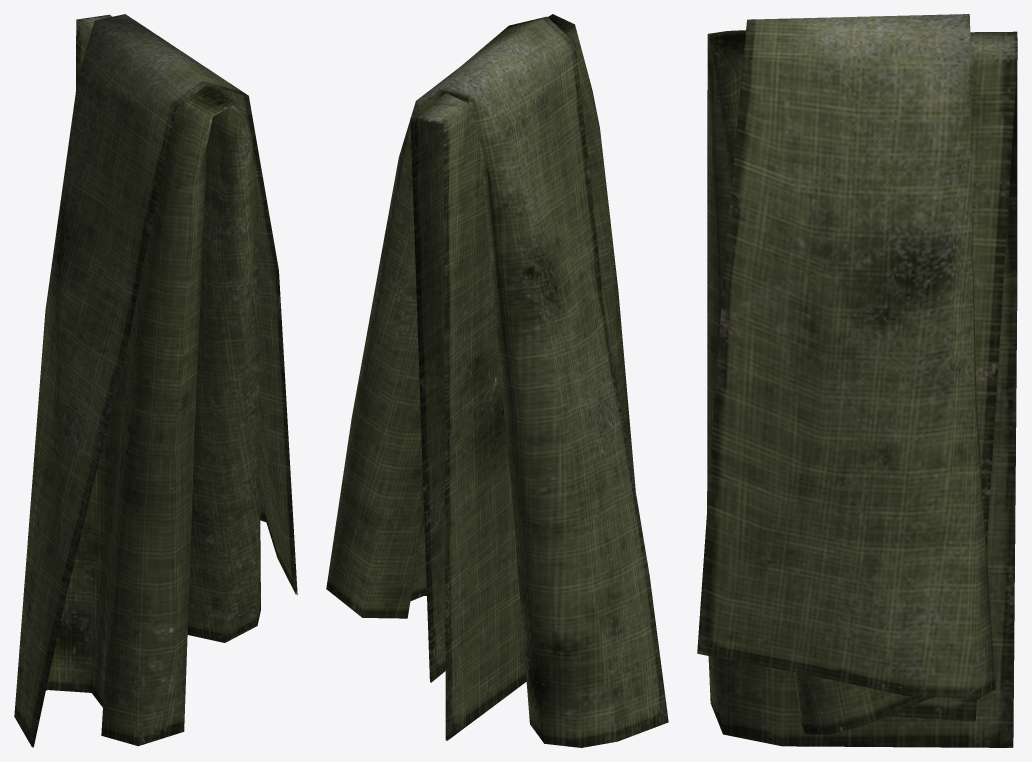
File: TowelB.fbx
3 views of the same model, side by side, from view 1: azimuth 30°, elevation 25°; view 2: azimuth 150°, elevation 25°; view 3: azimuth 270°, elevation 25° (orthographic). The views are drawn at different scales.
Parts seen in each view (by area): view 1: TowelB; view 2: TowelB; view 3: TowelB.
Part boxes in pixels (x1,y1,x2,y2): TowelB: [14, 14, 297, 747]; TowelB: [326, 14, 668, 747]; TowelB: [697, 14, 1017, 747].
Bounding box in the file's own units: 23.51 × 52.51 × 20.3.
